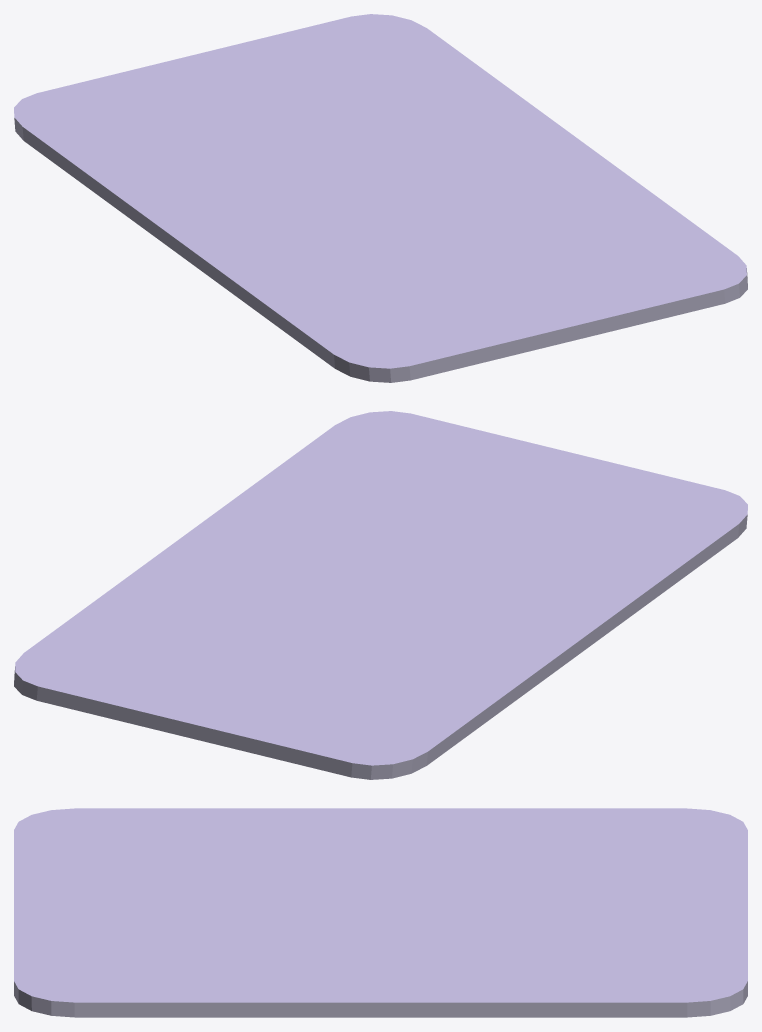
File: Garage_ground.fbx
3 views of the same model, one above another, from view 1: azimuth 30°, elevation 25°; view 2: azimuth 150°, elevation 25°; view 3: azimuth 270°, elevation 25° (orthographic).
Visible parts, largest first — view 1: Garage_ground; view 2: Garage_ground; view 3: Garage_ground.
Part boxes in pixels (left/top/right/bottom): Garage_ground: left=14, top=14, right=747, bottom=382; Garage_ground: left=14, top=411, right=747, bottom=779; Garage_ground: left=14, top=808, right=747, bottom=1017.
Bounding box in the file's own units: 289 × 9.94 × 460.
